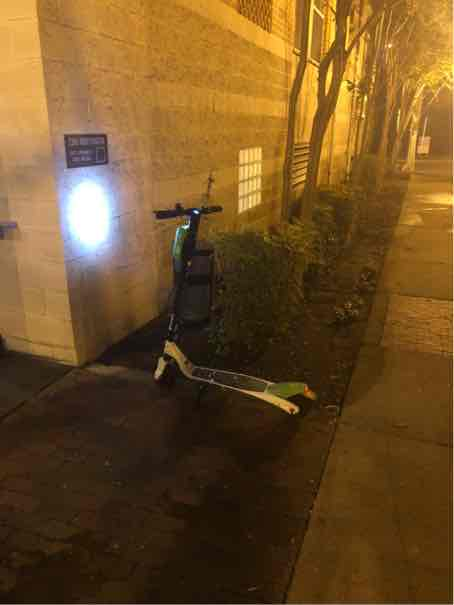scooter: (134, 196, 322, 422)
